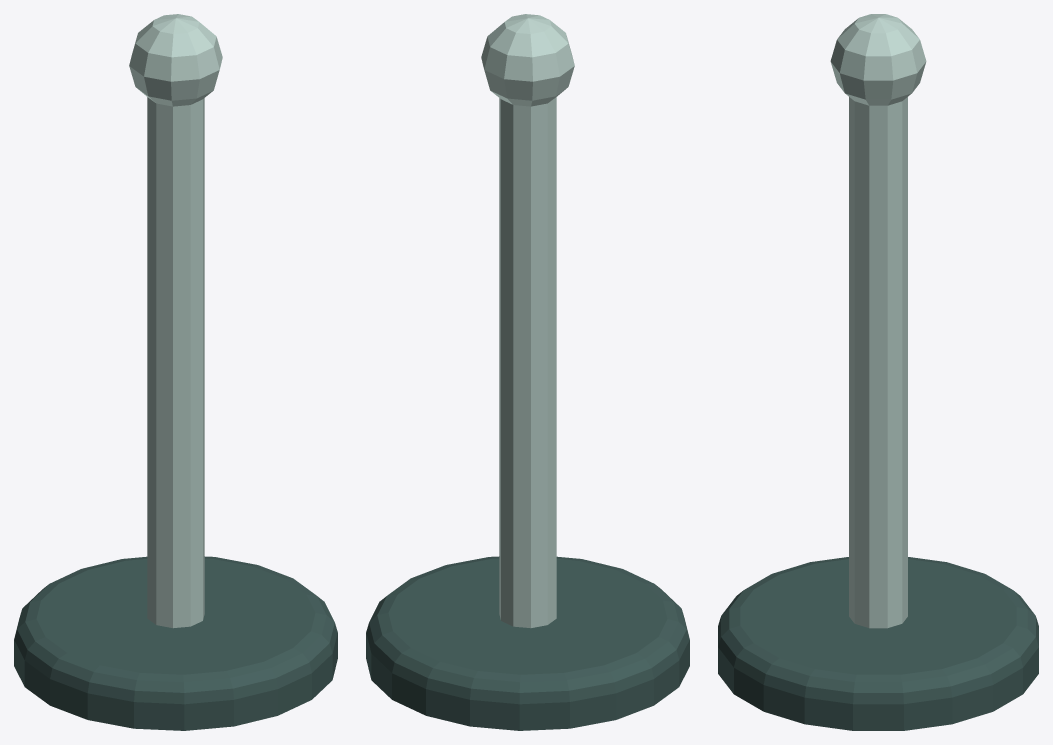
Rendered from Checkpoint_Post.gltf.
The picture shows the model from 3 angles, left to right: view 1: azimuth 30°, elevation 25°; view 2: azimuth 150°, elevation 25°; view 3: azimuth 270°, elevation 25°; orthographic projection.
Visible parts, largest first — view 1: Checkpoint_Post_baked; view 2: Checkpoint_Post_baked; view 3: Checkpoint_Post_baked.
Boxes of the visible parts, x1=… form: Checkpoint_Post_baked: x1=14, y1=14, x2=337, y2=730; Checkpoint_Post_baked: x1=366, y1=14, x2=689, y2=730; Checkpoint_Post_baked: x1=718, y1=14, x2=1038, y2=730.
Size of the model in its own units: 0.4346 by 0.965 by 0.4346.
